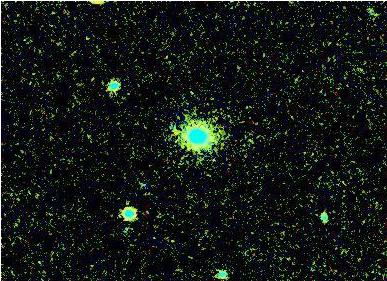star: (160, 116, 190, 146)
